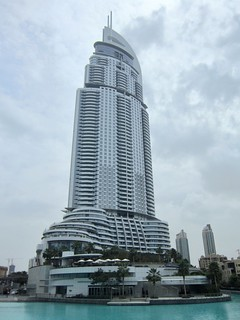medium: (38, 8, 188, 299)
